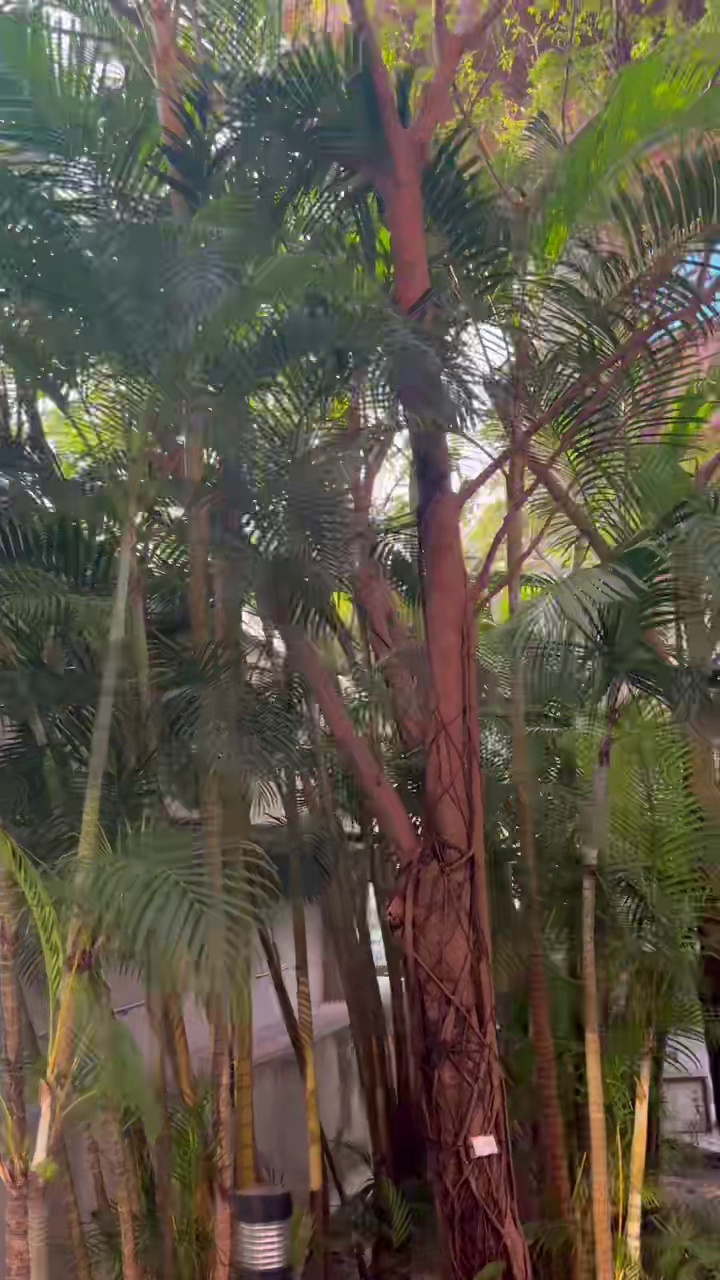Ficus benjamina: (297, 0, 531, 1279)
